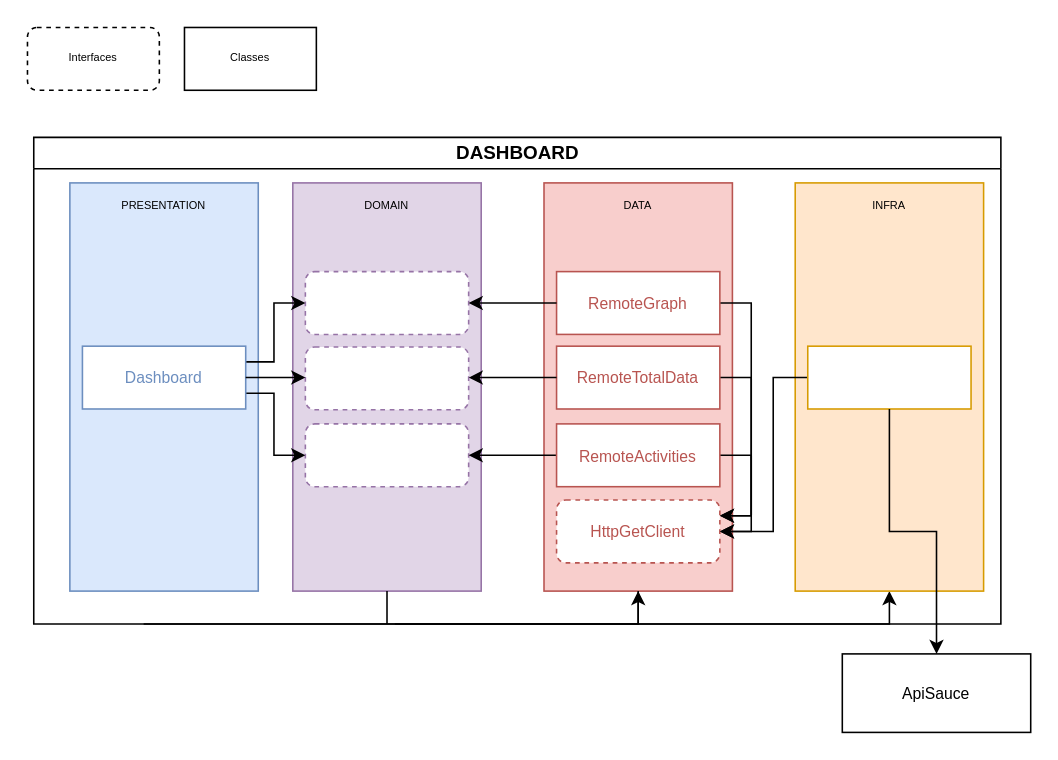
Image size: 1058x760. Some labels were removed from this diagram. The centre of each missing label's shape, as x and y in pixels:
"ApiSauceHttpClient" belongs at pixel 888 377.
"Atividades" belongs at pixel 386 454.
"Gráfico" belongs at pixel 386 302.
"Total Data" belongs at pixel 386 377.
